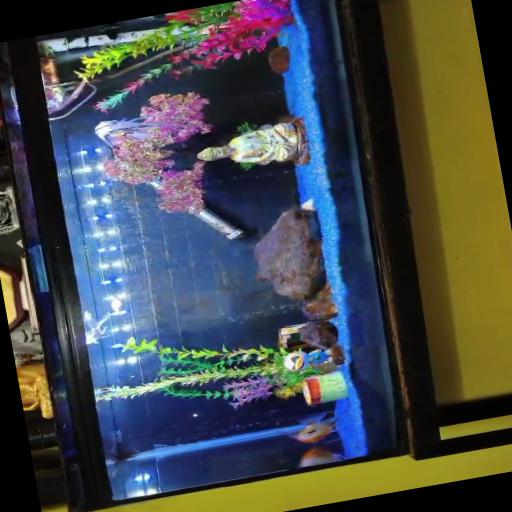Fish: (95, 116, 174, 147), (288, 408, 346, 442), (83, 310, 111, 343), (299, 446, 344, 466), (110, 297, 122, 314)
